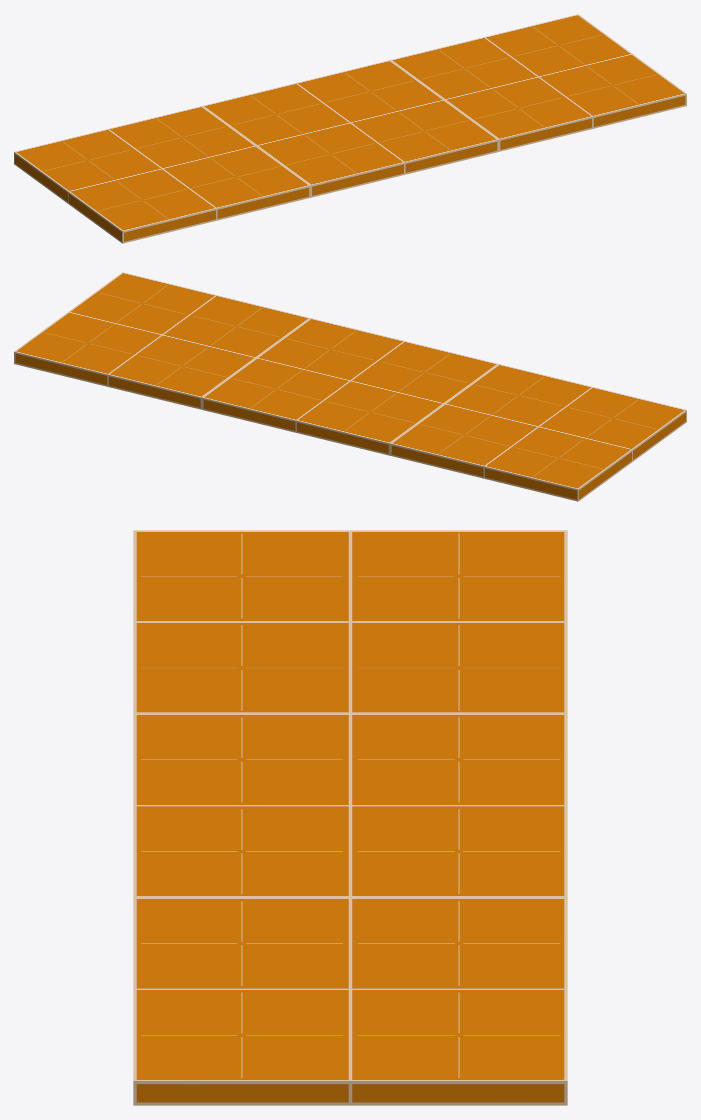
File: Plate16_3x1.obj
3 renders of one model, top to bottom at view 1: azimuth 30°, elevation 25°; view 2: azimuth 150°, elevation 25°; view 3: azimuth 270°, elevation 25°, orthographic. The views are drawn at different scales.
Visible parts, largest first — view 1: Plate16_3x1_Cube.428; view 2: Plate16_3x1_Cube.428; view 3: Plate16_3x1_Cube.428.
Part boxes in pixels (x1,y1,x2,y2): Plate16_3x1_Cube.428: [14, 14, 686, 243]; Plate16_3x1_Cube.428: [14, 272, 686, 501]; Plate16_3x1_Cube.428: [133, 530, 567, 1105].
Bounding box in the file's own units: 3 × 0.0625 × 1.
1 material, 1 textured.
